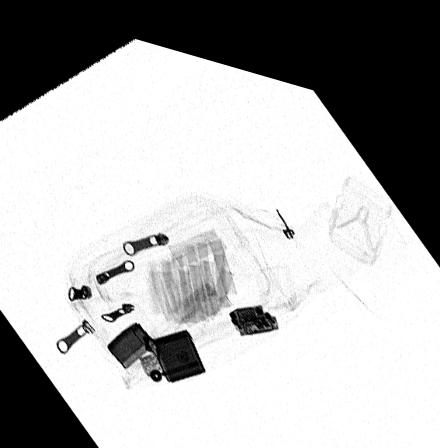Lighter: (107, 312, 206, 373)
